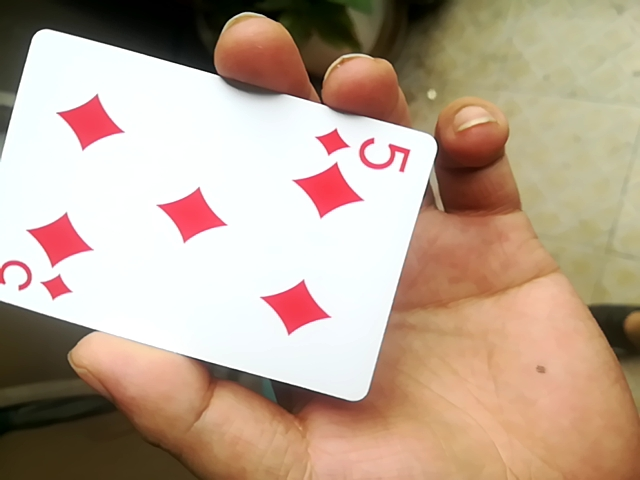fk 5: (0, 30, 431, 408)
